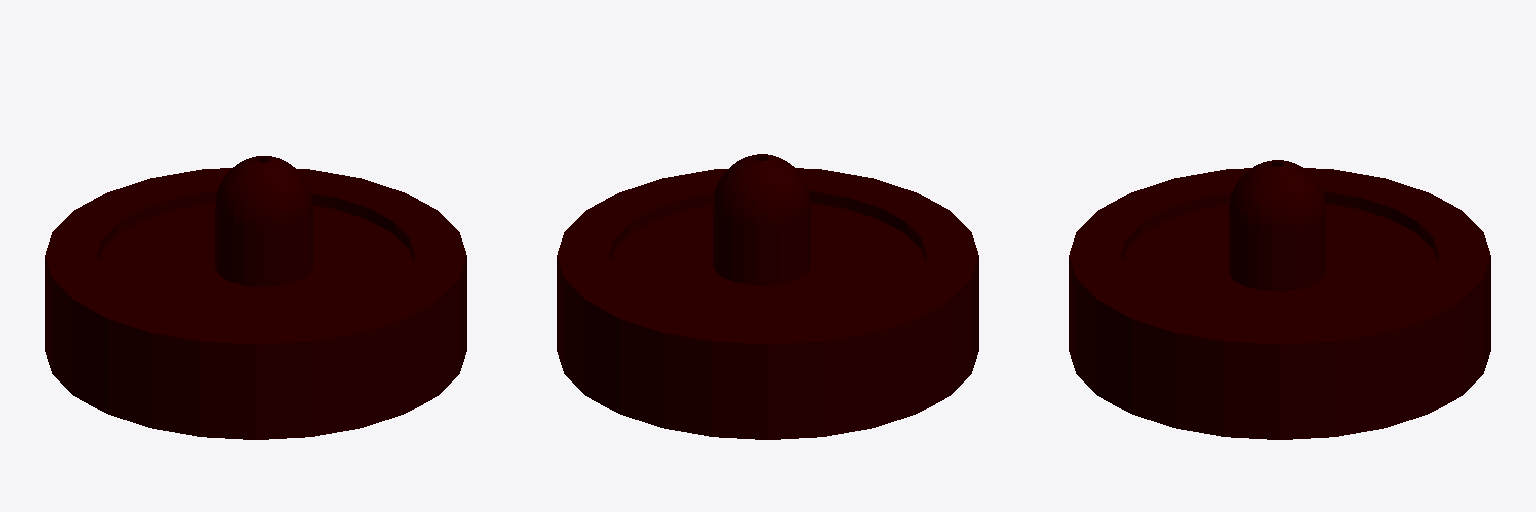
Rendered from paddle.obj.
The picture shows the model from 3 angles: view 1: azimuth 30°, elevation 25°; view 2: azimuth 150°, elevation 25°; view 3: azimuth 270°, elevation 25°; orthographic projection.
Visible parts, largest first — view 1: Mesh_Mesh_Mesh_Mesh_Mesh_Mesh_air_hockey.002; view 2: Mesh_Mesh_Mesh_Mesh_Mesh_Mesh_air_hockey.002; view 3: Mesh_Mesh_Mesh_Mesh_Mesh_Mesh_air_hockey.002.
Boxes of the visible parts, x1=… form: Mesh_Mesh_Mesh_Mesh_Mesh_Mesh_air_hockey.002: x1=45, y1=156, x2=466, y2=439; Mesh_Mesh_Mesh_Mesh_Mesh_Mesh_air_hockey.002: x1=557, y1=154, x2=978, y2=439; Mesh_Mesh_Mesh_Mesh_Mesh_Mesh_air_hockey.002: x1=1069, y1=160, x2=1490, y2=439.
Bounding box in the file's own units: 4.31 × 2.15 × 4.31.